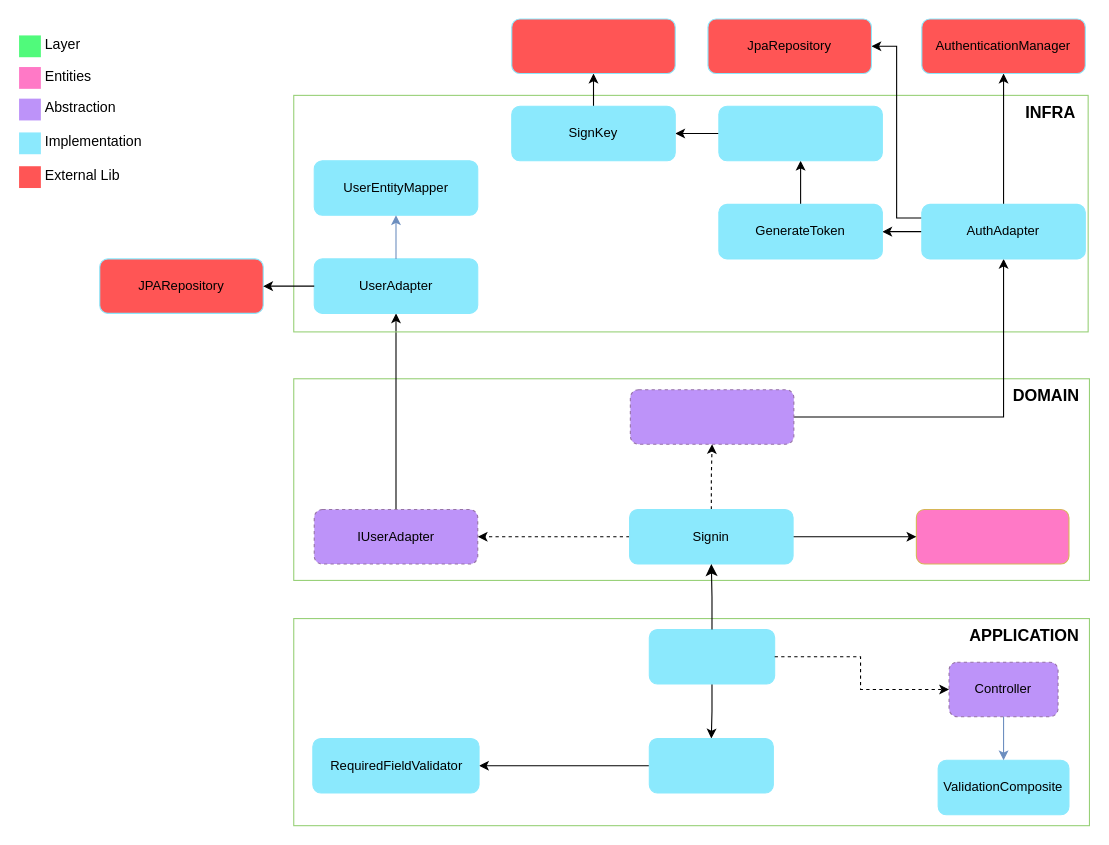
The diagram is 1109 pixels wide and 845 high, and some of its shapes have lost their labels. The shapes that lost their labels are listed below. From the top down, each one's centre as x and y in pixels, then its label:
pixel 593 46: JsonwebToken
pixel 800 133: CreateToken
pixel 711 416: IAuthAdapter
pixel 992 536: UnauthorizedException
pixel 711 656: SigninController
pixel 710 765: ValidationBuilder
